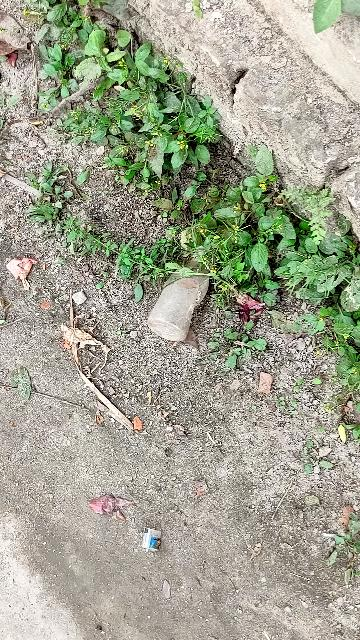bottle: (139, 262, 223, 346)
